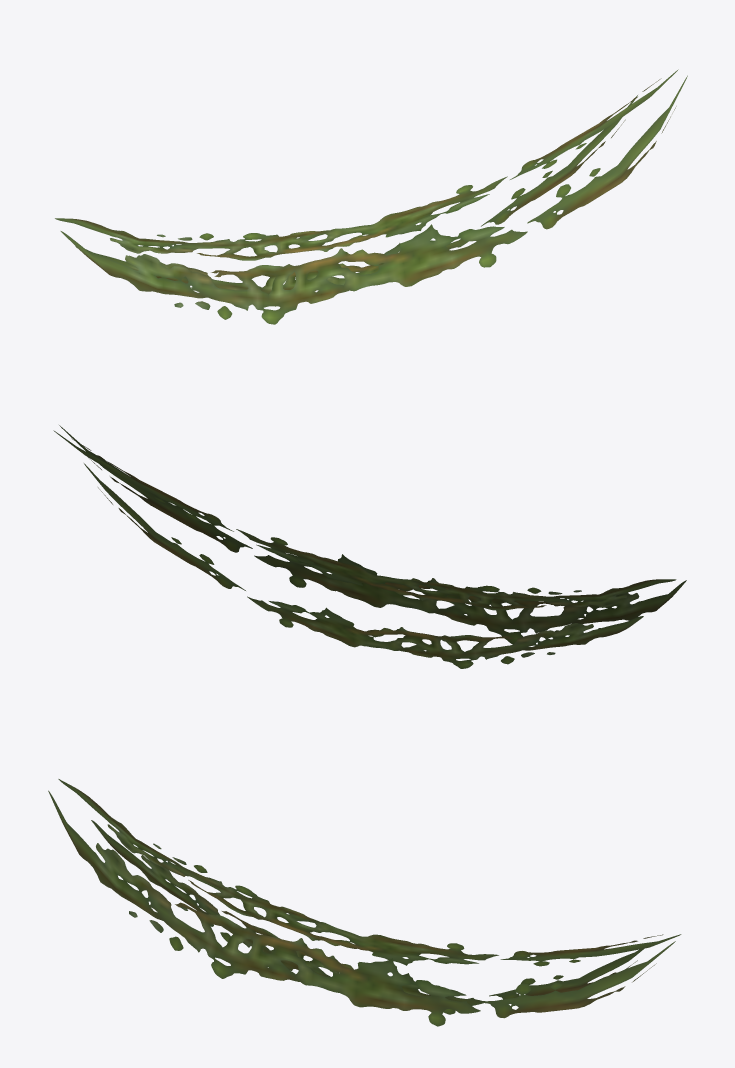
The picture shows the model from 3 angles, top to bottom: view 1: azimuth 30°, elevation 25°; view 2: azimuth 150°, elevation 25°; view 3: azimuth 330°, elevation 25°; orthographic projection.
Parts seen in each view (by area): view 1: wj4; view 2: wj4; view 3: wj4.
Boxes of the visible parts, x1,y1,x2,y2 form: wj4: (55,69,687,324); wj4: (53,425,686,668); wj4: (48,779,681,1026).
Bounding box in the file's own units: 567 × 173 × 54.96.
